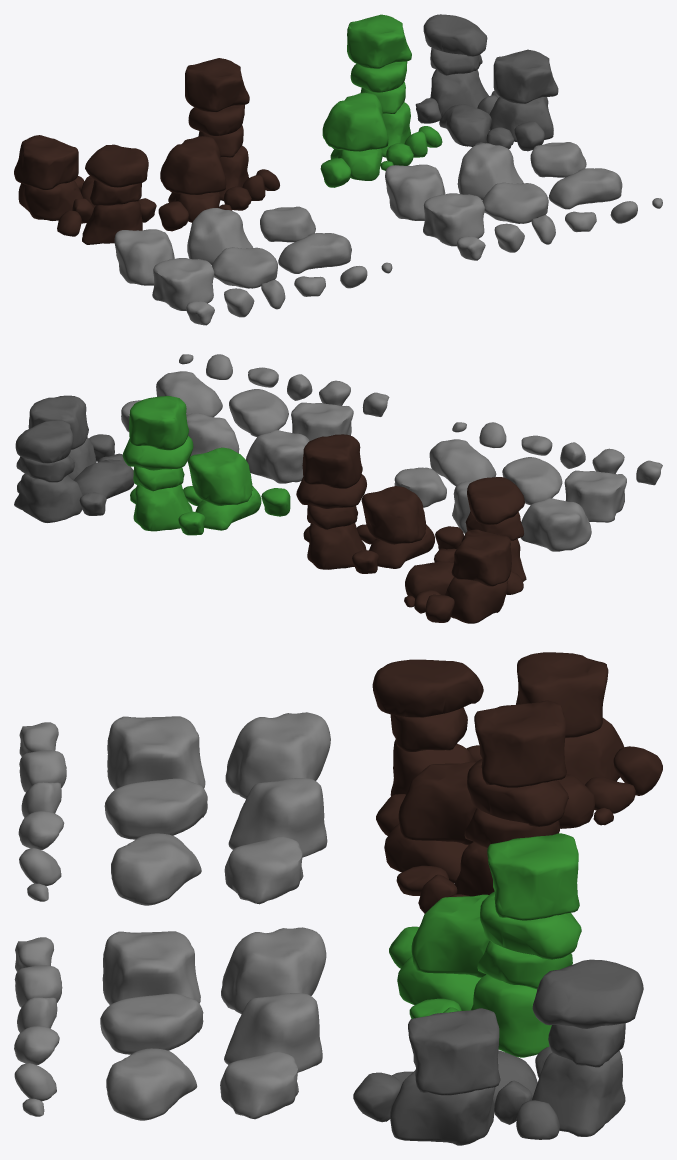
Rendered from Stone multi p1_Complete.FBX.
The picture shows the model from 3 angles, top to bottom: view 1: azimuth 30°, elevation 25°; view 2: azimuth 150°, elevation 25°; view 3: azimuth 270°, elevation 25°; orthographic projection. The views are drawn at different scales.
Visible parts, largest first — view 1: Stone multi p1 low one, Stone multi p1 low two, Stone multi p1 korihn two, Stone multi p1 korihnev one, Object011, Object012, Object001, Object021, Object008, Object022, Object002, Object010 (+14 smaller); view 2: Stone multi p1 low two, Stone multi p1 korihn two, Stone multi p1 korihnev one, Stone multi p1 low one, Object021, Object001, Object012, Object010, Object017, Object011, Object014, Object002 (+13 smaller); view 3: Stone multi p1 low one, Stone multi p1 low two, Stone multi p1 korihn two, Stone multi p1 korihnev one, Object001, Object021, Object012, Object011, Object022, Object008, Object010, Object014 (+14 smaller).
Boxes of the visible parts, x1,y1,x2,y2 form: Stone multi p1 low one: [415, 14, 558, 151]; Stone multi p1 low two: [320, 14, 442, 187]; Stone multi p1 korihn two: [158, 58, 279, 231]; Stone multi p1 korihnev one: [14, 135, 156, 244]; Object011: [423, 193, 484, 246]; Object012: [152, 258, 214, 310]; Object001: [385, 164, 445, 220]; Object021: [114, 229, 174, 285]; Object008: [457, 143, 523, 200]; Object022: [187, 208, 252, 264]; Object002: [548, 168, 622, 209]; Object010: [482, 182, 548, 223]; Stone multi p1 low two: [122, 396, 290, 535]; Stone multi p1 korihn two: [296, 434, 463, 573]; Stone multi p1 korihnev one: [404, 477, 526, 623]; Stone multi p1 low one: [14, 395, 134, 522]; Object021: [520, 498, 591, 551]; Object001: [246, 430, 309, 483]; Object012: [564, 470, 626, 522]; Object010: [229, 389, 288, 436]; Object017: [429, 439, 496, 486]; Object011: [291, 402, 353, 440]; Object014: [502, 457, 562, 504]; Object002: [156, 371, 222, 417]; Stone multi p1 low one: [353, 959, 643, 1145]; Stone multi p1 low two: [389, 833, 581, 1057]; Stone multi p1 korihn two: [376, 700, 568, 913]; Stone multi p1 korihnev one: [372, 652, 662, 828]; Object001: [221, 927, 326, 1013]; Object021: [225, 712, 330, 798]; Object012: [107, 716, 205, 789]; Object011: [102, 931, 200, 1004]; Object022: [228, 778, 327, 857]; Object008: [224, 993, 322, 1072]; Object010: [100, 993, 203, 1054]; Object014: [104, 778, 207, 839].
Bounding box in the file's own units: 1892 × 426 × 1299.
